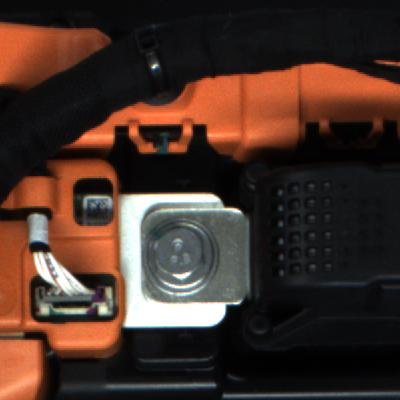nut_b: (136, 220, 226, 297)
